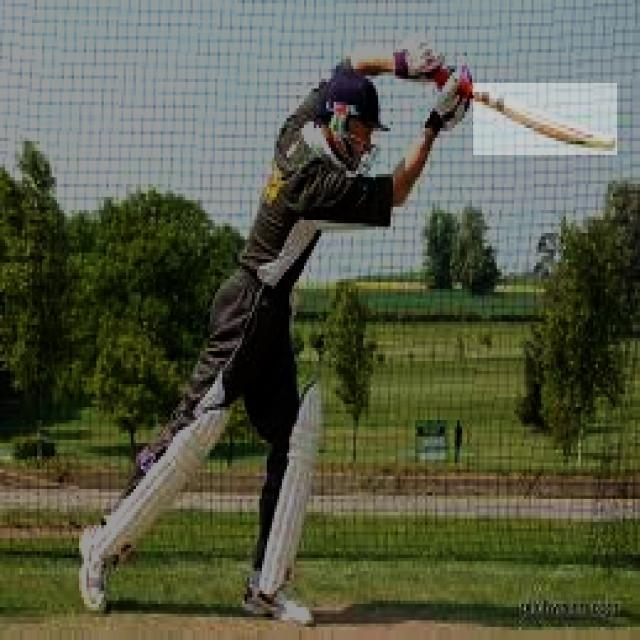bat: (474, 83, 618, 154)
